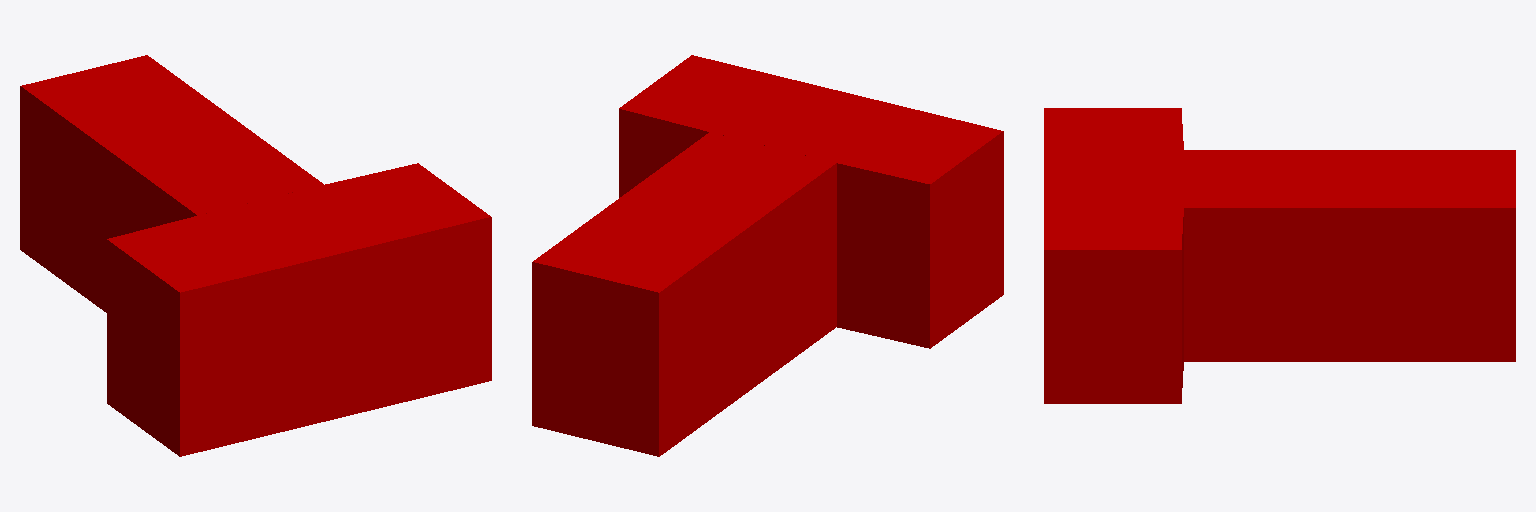
The robot description file, URDF, robot "cube_t":
<?xml version="1.0" ?>
<robot name="cube_t">

  <link name="cubet">
    <inertial>
      <origin rpy="0 0 0" xyz="0 0 0"/>
       <mass value="1.0"/>
       <inertia ixx="1" ixy="0" ixz="0" iyy="1" iyz="0" izz="1"/>
    </inertial>
    <collision>
      <origin rpy="0 0 0" xyz="0 0 0"/>
      <geometry>
        <!-- <mesh filename="/output/push_t_ee/dynamic/geometry/obj_vhacd_original.obj"/> -->
        <mesh filename="obj_vhacd_original.obj"/>
	 	    <!-- <mesh filename="cube_t_vhacd.obj"/> -->
      </geometry>
    </collision>
    <visual>
      <origin rpy="0 0 0" xyz="0 0 0"/>
      <geometry>
				<!-- <mesh filename="cube_t.obj"/> -->
        <mesh filename="obj_vhacd_original.obj"/>
        <!-- <mesh filename="/output/push_t_ee/dynamic/geometry/obj_vhacd_original.obj"/> -->
      </geometry>
      <material name="red">
        <color rgba="0.8 0 0 1"/>
      </material>
    </visual>
  </link>

</robot> 

--- Facts derived from the render (not from the file) ---
Views: 3 orthographic renders of the robot side by side, from view 1: azimuth 30°, elevation 25°; view 2: azimuth 150°, elevation 25°; view 3: azimuth 270°, elevation 25°.
Model cube_t with 1 links and 0 joints (none), rooted at cubet, posed every joint at zero.
Visible links, largest first — view 1: cubet; view 2: cubet; view 3: cubet.
Boxes of the visible links, x1,y1,x2,y2 form: cubet: [20, 55, 491, 456]; cubet: [532, 55, 1003, 456]; cubet: [1044, 108, 1515, 403].
Size in the robot's own frame: 0.1005 by 0.1407 by 0.0506 metres.
1 mesh visuals loaded from 1 distinct referenced files (1 OBJ).